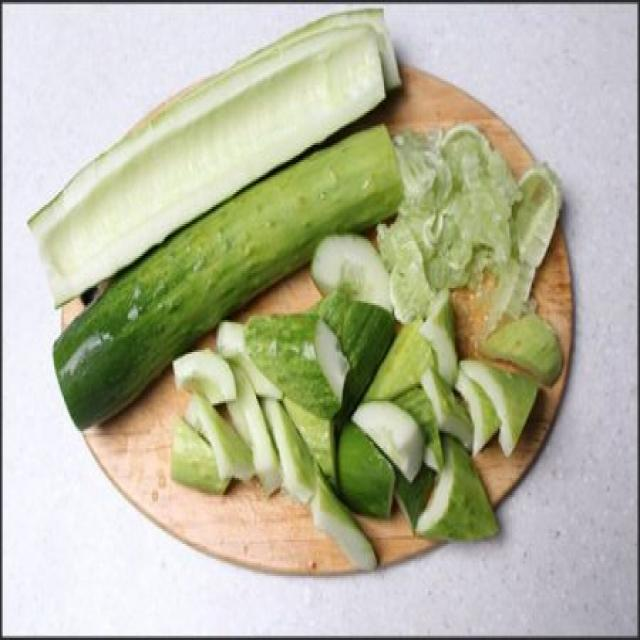cucumber: (25, 9, 622, 566), (31, 20, 385, 284), (180, 324, 394, 564), (369, 276, 583, 452), (406, 444, 528, 532)
